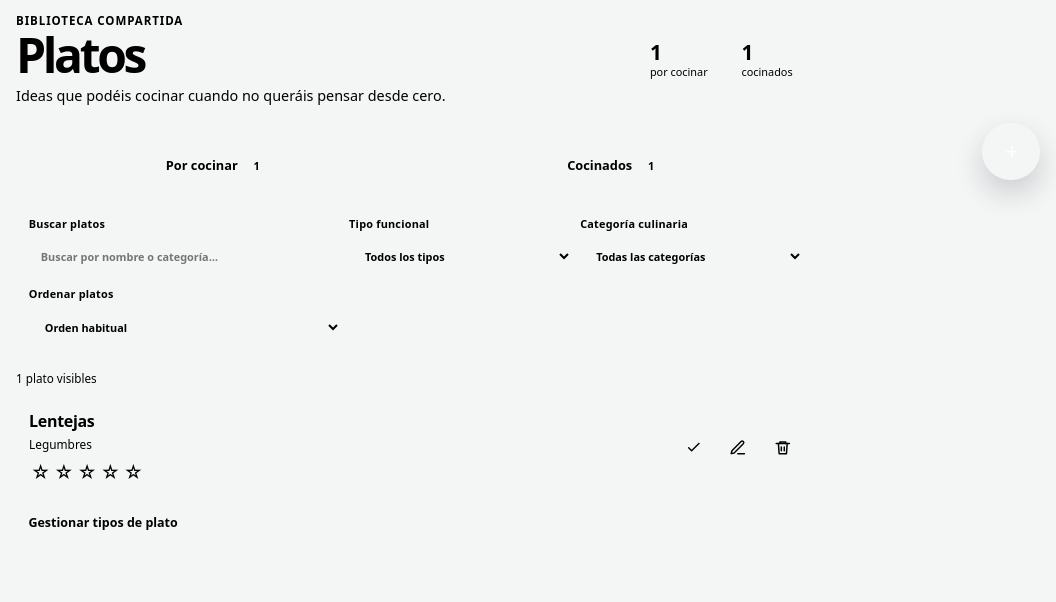
it: MenuPlanningView › busca platos por nombre y mantiene el filtro de estado
Expected: the text "Lentejas" is shown, [29,410,94,432]
In the search field labelled "Buscar platos": (185, 257) [29,235,341,278], type "tortilla"
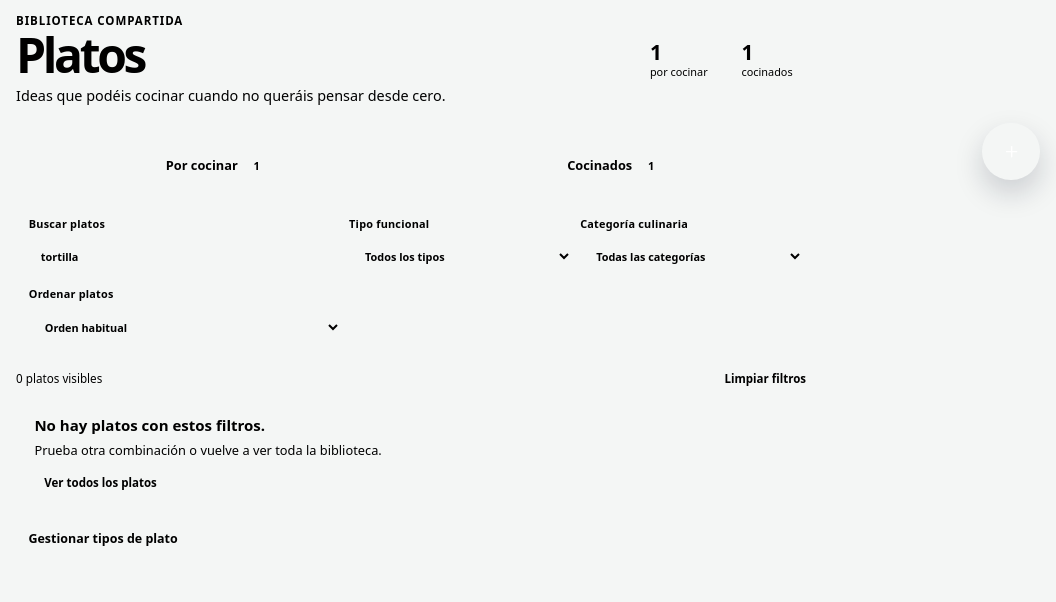
Now the text "Lentejas" is gone
Click the tab "Cocinados 1": (615, 165) [418,145,812,186]
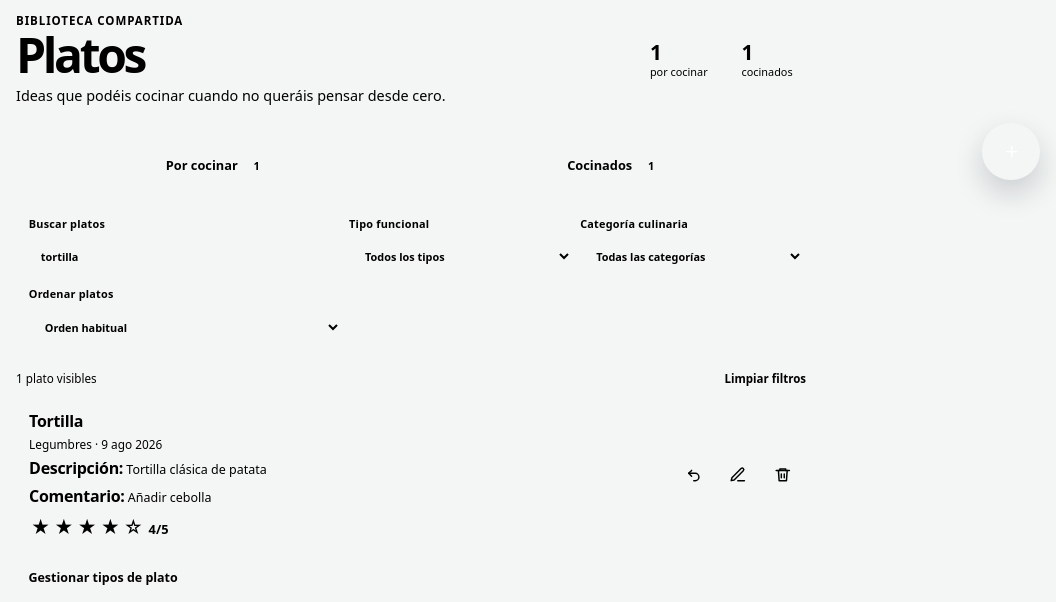
Now the text "Tortilla" is shown, box [29,410,83,432]
